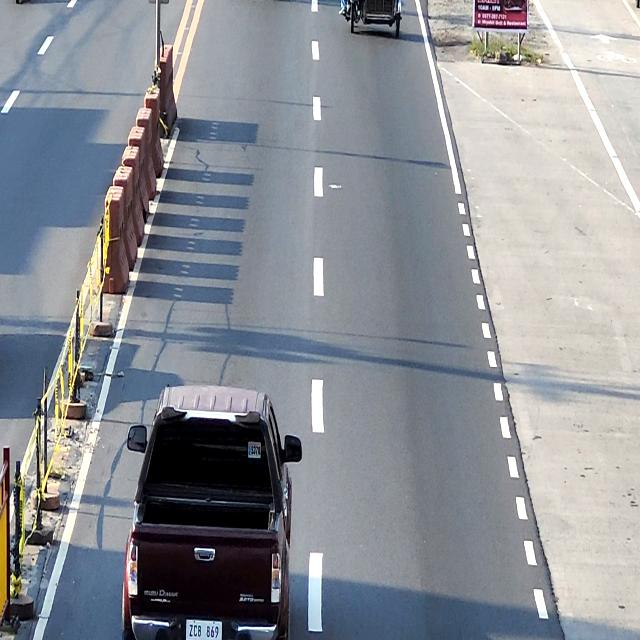Car: (122, 384, 302, 640)
License-Plate: (187, 621, 221, 640)
Tricycle: (348, 0, 402, 33)
